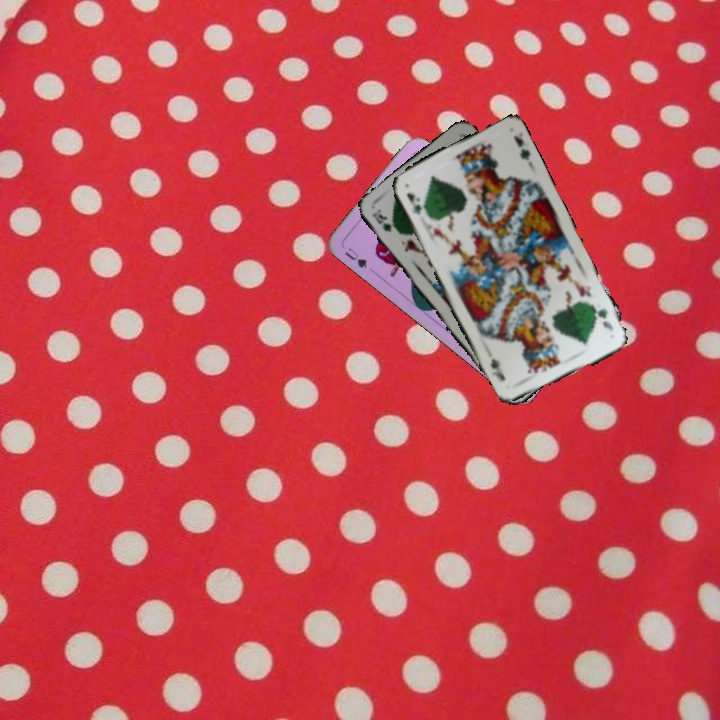GK: (588, 302, 616, 334), (368, 206, 394, 235), (403, 189, 424, 218)
GU: (341, 243, 370, 271)
